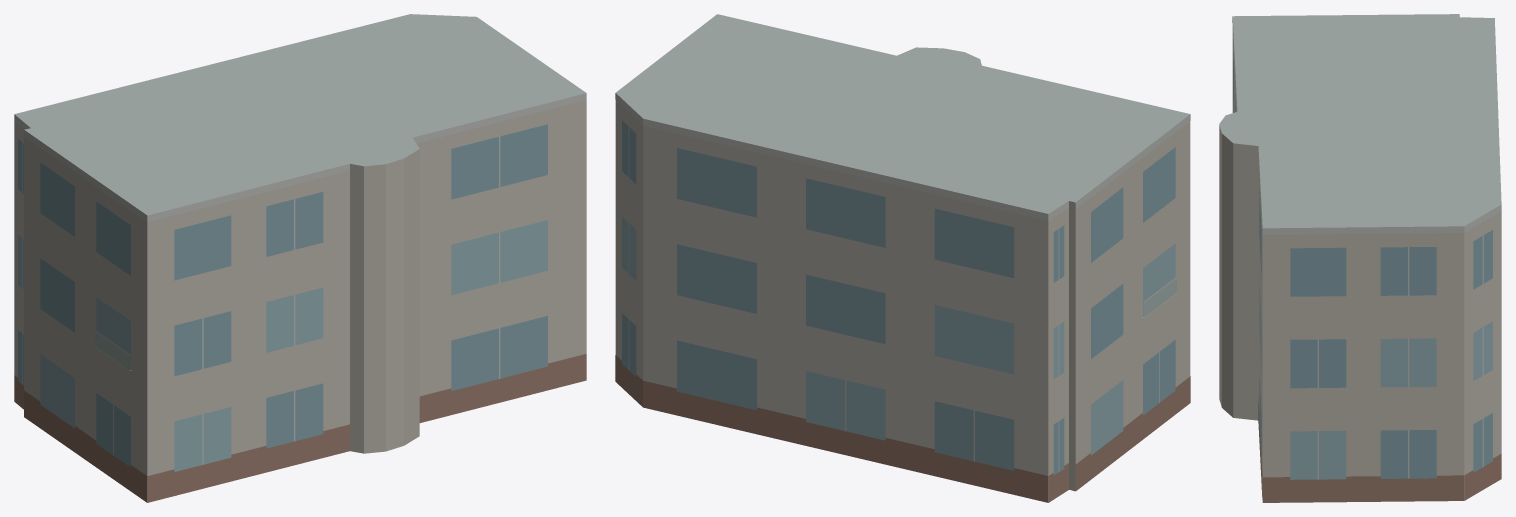
The model's file is survey-upis-32919371.glb.
3 renders of one model, left to right at view 1: azimuth 30°, elevation 25°; view 2: azimuth 150°, elevation 25°; view 3: azimuth 270°, elevation 25°, orthographic. The views are drawn at different scales.
Visible parts, largest first — view 1: survey-upis-32919371.tmp; view 2: survey-upis-32919371.tmp; view 3: survey-upis-32919371.tmp.
Part boxes in pixels (left/top/right/bottom): survey-upis-32919371.tmp: left=14, top=14, right=586, bottom=502; survey-upis-32919371.tmp: left=615, top=14, right=1190, bottom=502; survey-upis-32919371.tmp: left=1219, top=14, right=1501, bottom=502.
Bounding box in the file's own units: 17.08 × 10.2 × 9.51.
